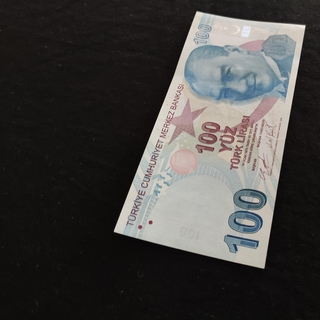100TLFront: (112, 10, 306, 270)
